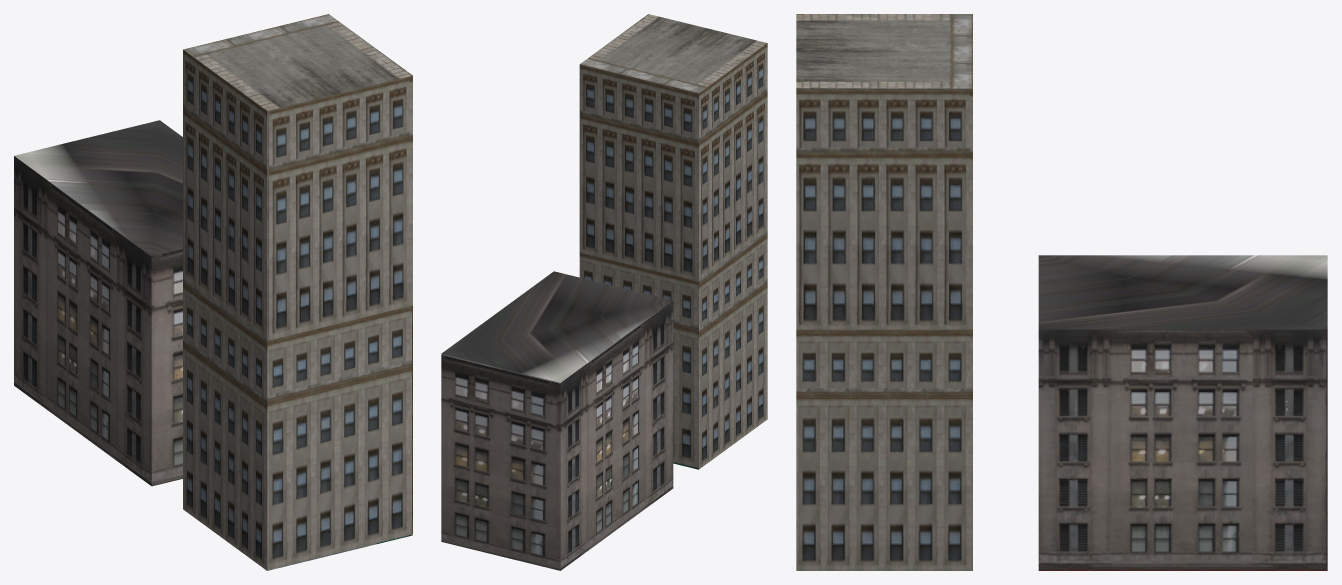
Rendered from bild.fbx.
The picture shows the model from 3 angles, left to right: view 1: azimuth 30°, elevation 25°; view 2: azimuth 150°, elevation 25°; view 3: azimuth 270°, elevation 25°; orthographic projection. The views are drawn at different scales.
Parts seen in each view (by area): view 1: Cube, Cube.001; view 2: Cube, Cube.001; view 3: Cube, Cube.001.
Boxes of the visible parts, x1,y1,x2,y2 form: Cube: (183,14,412,570); Cube.001: (14,120,182,486); Cube: (579,14,767,469); Cube.001: (441,271,673,570); Cube: (796,14,972,570); Cube.001: (1038,255,1327,570).
Size of the model in its own units: 1077 by 3246 by 3239.
